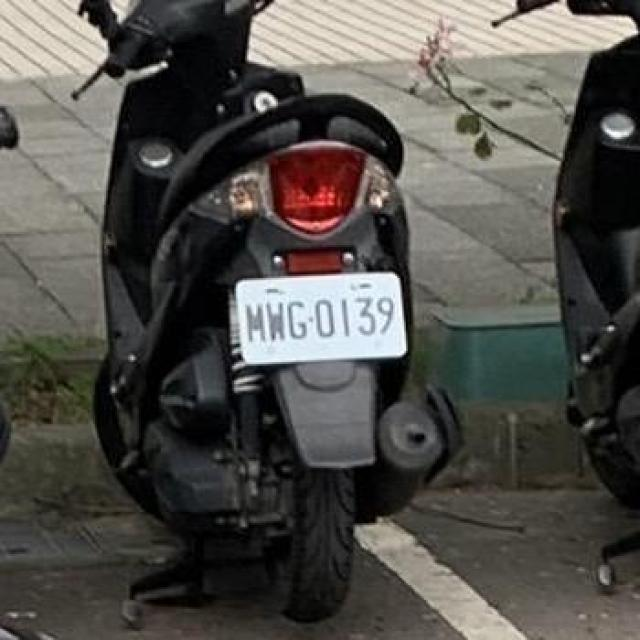W: (229, 260, 415, 375)
